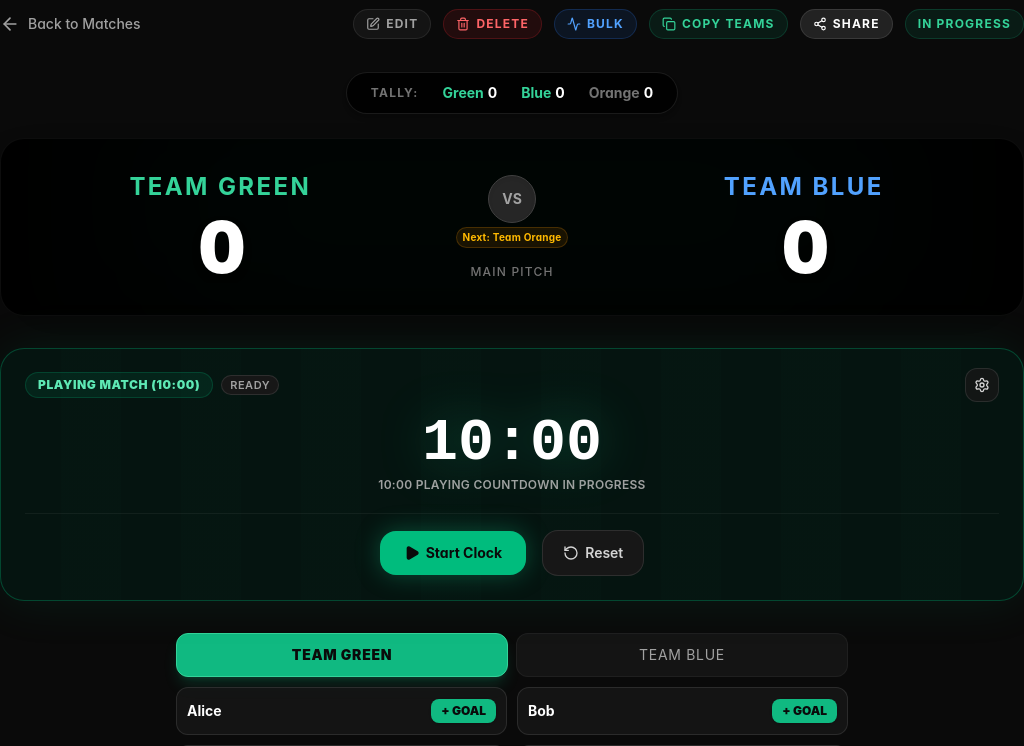
ActiveMatchControlCenter Integration Suite › 3. Existing AssistModal Integration › opens existing AssistModal with correct player and team context when + GOAL is clicked
The image size is (1024, 746).
Click + GOAL on Alice (p1)
Click the button with test id "player-card-p1" at (204, 710), box [176,687,507,735]
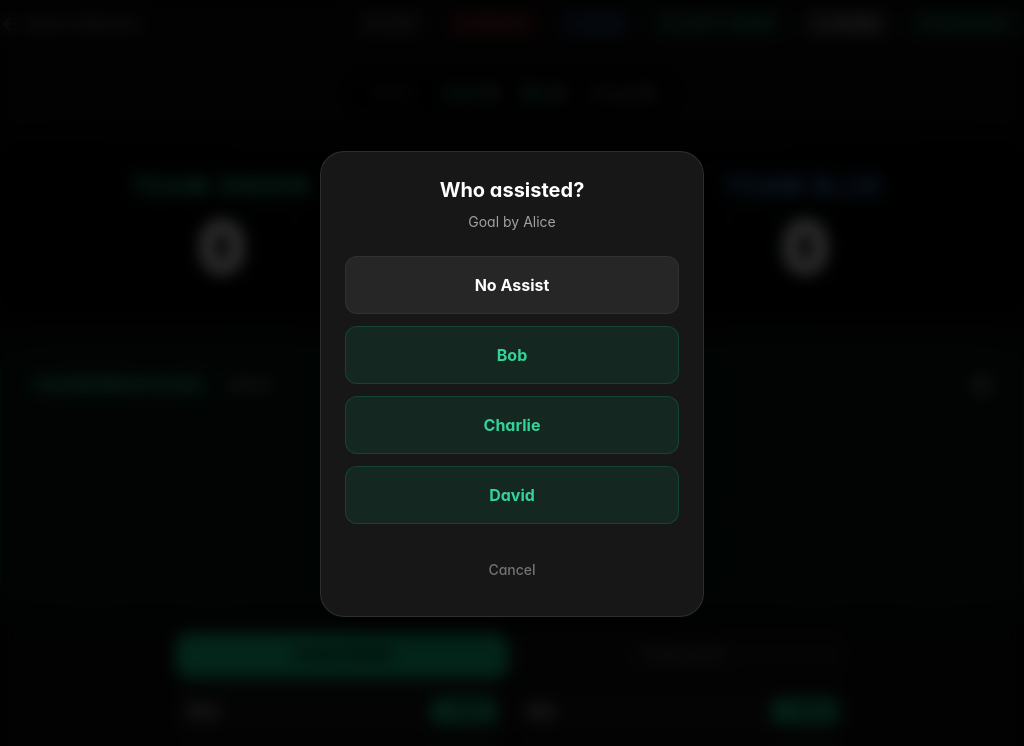
Check: the heading "Who assisted?" is shown, box [440,178,584,202]
Check: the text "Goal by Alice" is shown, box [468,213,556,230]
Check: the button "No Assist" is shown, box [345,256,679,314]
